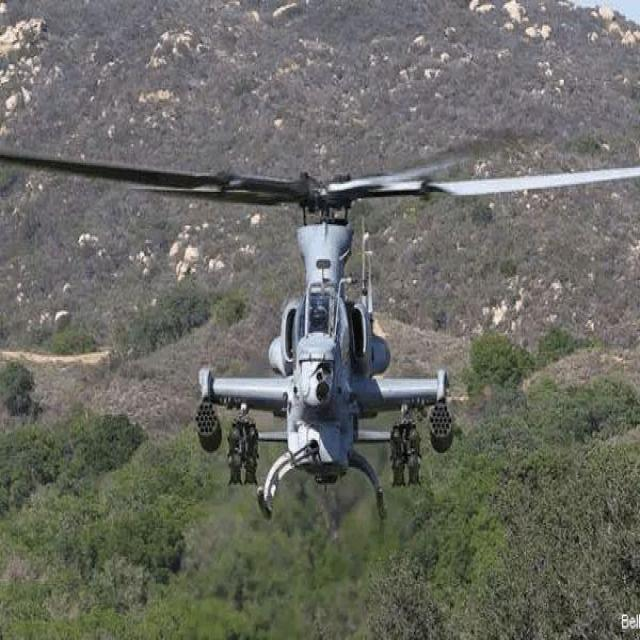MIL_HELO: (0, 129, 617, 525)
